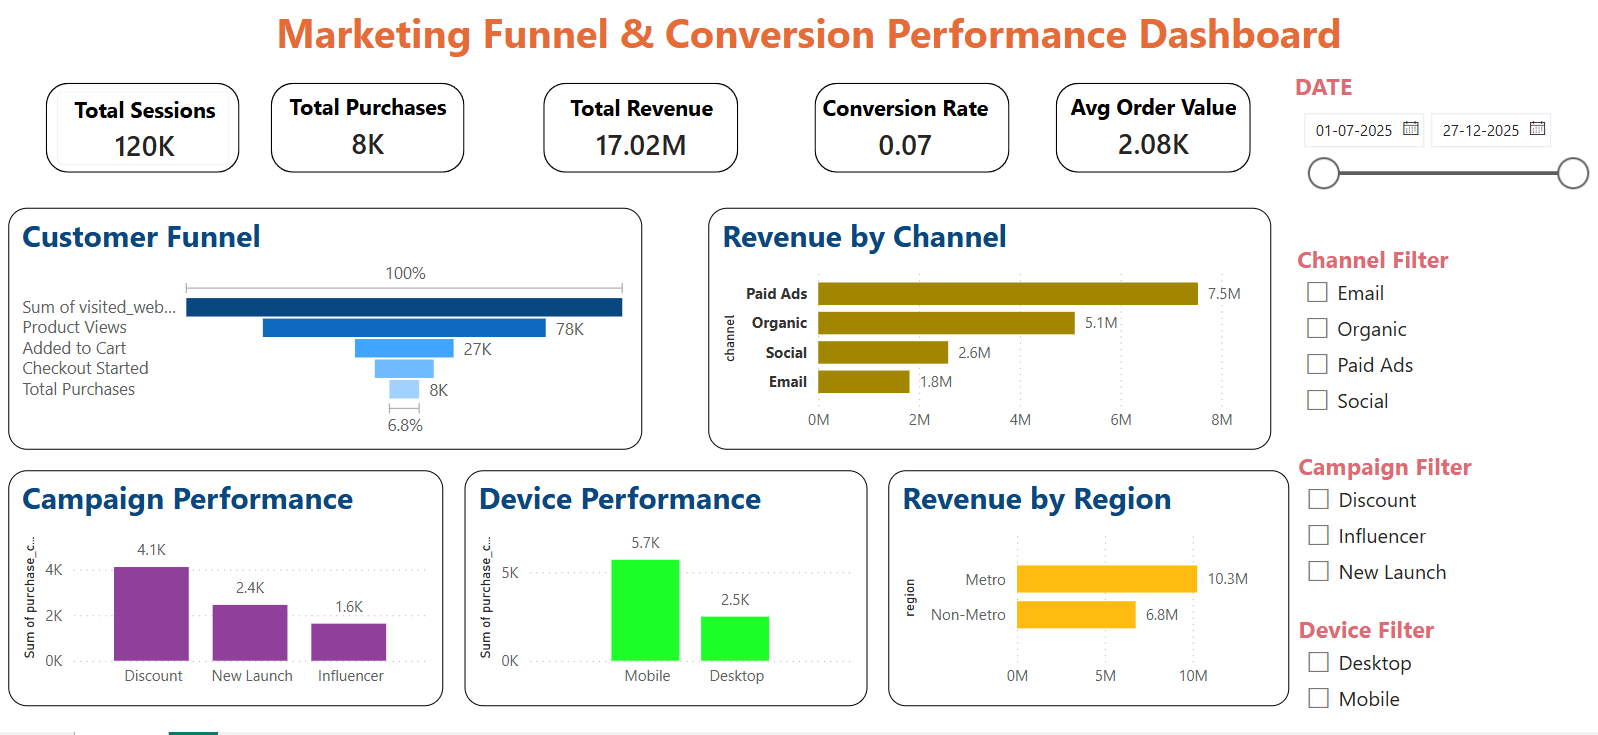

What the dashboard file says about the page in this screenshot:
{"tool":"powerbi","page":{"name":"Page 1","canvas":[1282,900],"ordinal":0},"visuals":[{"type":"shape","box":[38.6,67.1,155.7,71.4],"z":0},{"type":"shape","box":[218.6,67.1,155.7,71.4],"z":1000},{"type":"shape","box":[437.1,67.1,155.7,71.4],"z":2000},{"type":"shape","box":[654.3,67.1,155.7,71.4],"z":3000},{"type":"shape","box":[847.1,67.1,155.7,71.4],"z":4000},{"type":"cardVisual","fields":{"Data":["cleaned_marketing_funnel_data.Total Sessions"]},"box":[31.4,57.1,171.4,92.9],"z":5000},{"type":"cardVisual","fields":{"Data":["cleaned_marketing_funnel_data.Total Purchases"]},"box":[194.3,55.7,204.3,92.9],"z":6000},{"type":"cardVisual","fields":{"Data":["cleaned_marketing_funnel_data.Total Revenue"]},"box":[420,57.1,191.4,92.9],"z":7000},{"type":"cardVisual","fields":{"Data":["cleaned_marketing_funnel_data.Conversion Rate"]},"box":[605.7,57.1,241.4,92.9],"z":8000},{"type":"cardVisual","fields":{"Data":["cleaned_marketing_funnel_data.Avg Order Value"]},"box":[815.7,55.7,218.6,92.9],"z":9000},{"type":"funnel","title":"Customer Funnel","fields":{"Y":["Sum(cleaned_marketing_funnel_data.visited_website)","cleaned_marketing_funnel_data.Product Views","cleaned_marketing_funnel_data.Added to Cart","cleaned_marketing_funnel_data.Checkout Started","cleaned_marketing_funnel_data.Total Purchases"]},"box":[8.6,167.1,507.1,194.3],"z":10000},{"type":"clusteredBarChart","title":"Revenue by Channel","fields":{"Category":["cleaned_marketing_funnel_data.channel"],"Y":["Sum(cleaned_marketing_funnel_data.revenue)"]},"box":[568.6,167.1,450,194.3],"z":11000},{"type":"clusteredColumnChart","title":"Campaign Performance","fields":{"Y":["Sum(cleaned_marketing_funnel_data.purchase_completed)"],"Category":["cleaned_marketing_funnel_data.campaign_type"]},"box":[8.6,377.1,348.6,188.6],"z":12000},{"type":"clusteredColumnChart","title":"Device Performance","fields":{"Y":["Sum(cleaned_marketing_funnel_data.purchase_completed)"],"Category":["cleaned_marketing_funnel_data.device"]},"box":[374.3,377.1,321.4,188.6],"z":13000},{"type":"clusteredBarChart","title":"Revenue by Region","fields":{"Category":["cleaned_marketing_funnel_data.region"],"Y":["Sum(cleaned_marketing_funnel_data.revenue)"]},"box":[712.9,377.1,321.4,188.6],"z":14000},{"type":"lineChart","title":"Monthly Revenue Trend","fields":{"Y":["Sum(cleaned_marketing_funnel_data.revenue)"],"Category":["cleaned_marketing_funnel_data.month.Variation.Date Hierarchy.Year","cleaned_marketing_funnel_data.month.Variation.Date Hierarchy.Quarter","cleaned_marketing_funnel_data.month.Variation.Date Hierarchy.Month","cleaned_marketing_funnel_data.month.Variation.Date Hierarchy.Day"]},"box":[44.3,607.1,958.6,192.9],"z":15000},{"type":"slicer","title":"Channel Filter","fields":{"Values":["cleaned_marketing_funnel_data.channel"]},"box":[1035,195,220,160],"z":16000},{"type":"slicer","title":"Campaign Filter","fields":{"Values":["cleaned_marketing_funnel_data.campaign_type"]},"box":[1035.7,361.4,220,130],"z":17000},{"type":"slicer","title":"Device Filter","fields":{"Values":["cleaned_marketing_funnel_data.device"]},"box":[1035.7,491.4,220,94.3],"z":18000},{"type":"slicer","title":"Region Filter","fields":{"Values":["cleaned_marketing_funnel_data.region"]},"box":[1035,595,220,108.3],"z":19000},{"type":"slicer","title":"User Type Filter","fields":{"Values":["cleaned_marketing_funnel_data.user_type"]},"box":[1035,690,220,120],"z":19001},{"type":"textbox","box":[116.7,0,1065,56.7],"z":19003},{"type":"textbox","box":[100,800,596.7,100],"z":19004},{"type":"slicer","title":"DATE","fields":{"Values":["cleaned_marketing_funnel_data.date"]},"box":[1033.3,56.7,248.3,121.7],"z":19005}]}

Visuals, with their boxes on the page's 1282x900 design canvas (x1, y1, x2, y2). These are canvas units, not pixel positions in the 1598x735 screenshot, which may show the page scaled, cropped or inside an application window:
shape: left=39, top=67, right=194, bottom=138
shape: left=219, top=67, right=374, bottom=138
shape: left=437, top=67, right=593, bottom=138
shape: left=654, top=67, right=810, bottom=138
shape: left=847, top=67, right=1003, bottom=138
cardVisual - cleaned_marketing_funnel_data.Total Sessions: left=31, top=57, right=203, bottom=150
cardVisual - cleaned_marketing_funnel_data.Total Purchases: left=194, top=56, right=399, bottom=149
cardVisual - cleaned_marketing_funnel_data.Total Revenue: left=420, top=57, right=611, bottom=150
cardVisual - cleaned_marketing_funnel_data.Conversion Rate: left=606, top=57, right=847, bottom=150
cardVisual - cleaned_marketing_funnel_data.Avg Order Value: left=816, top=56, right=1034, bottom=149
"Customer Funnel" funnel: left=9, top=167, right=516, bottom=361
"Revenue by Channel" clusteredBarChart: left=569, top=167, right=1019, bottom=361
"Campaign Performance" clusteredColumnChart: left=9, top=377, right=357, bottom=566
"Device Performance" clusteredColumnChart: left=374, top=377, right=696, bottom=566
"Revenue by Region" clusteredBarChart: left=713, top=377, right=1034, bottom=566
"Monthly Revenue Trend" lineChart: left=44, top=607, right=1003, bottom=800
"Channel Filter" slicer: left=1035, top=195, right=1255, bottom=355
"Campaign Filter" slicer: left=1036, top=361, right=1256, bottom=491
"Device Filter" slicer: left=1036, top=491, right=1256, bottom=586
"Region Filter" slicer: left=1035, top=595, right=1255, bottom=703
"User Type Filter" slicer: left=1035, top=690, right=1255, bottom=810
textbox: left=117, top=0, right=1182, bottom=57
textbox: left=100, top=800, right=697, bottom=900
"DATE" slicer: left=1033, top=57, right=1282, bottom=178
